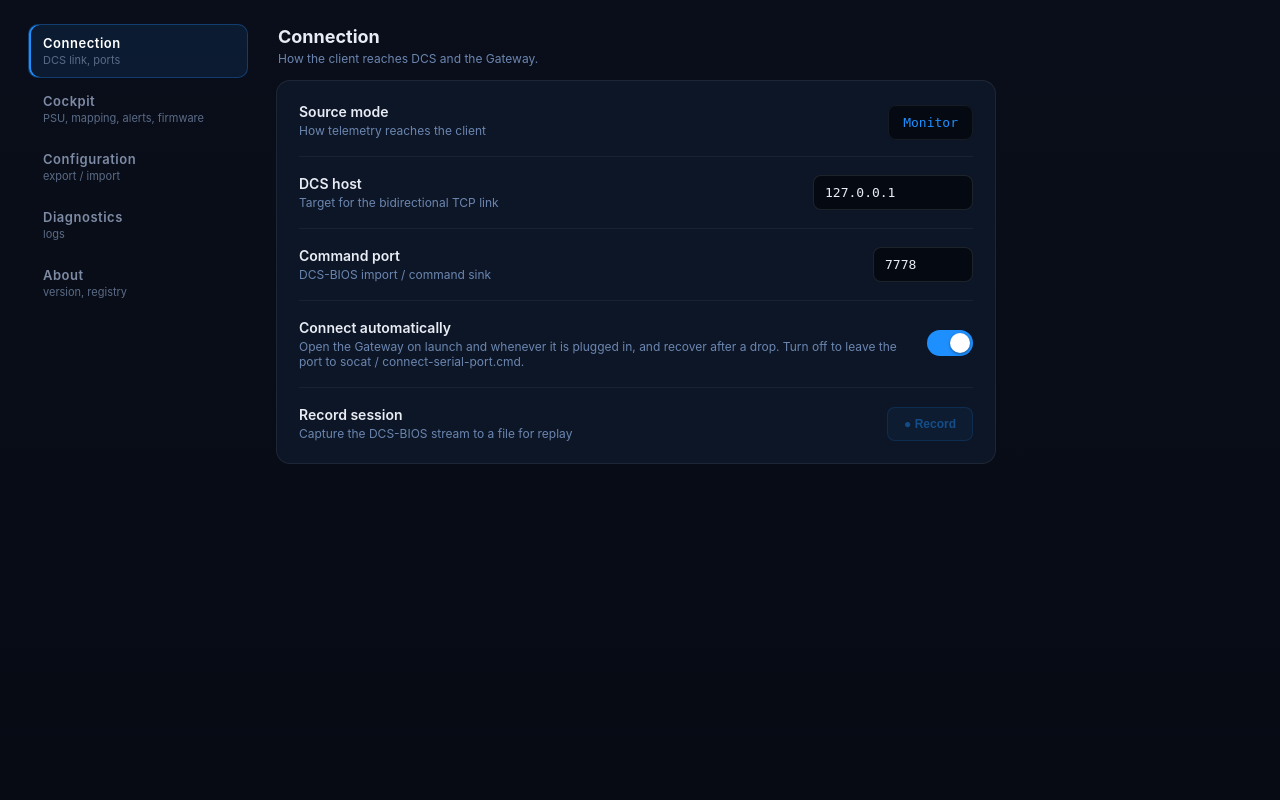
Test: T36 Settings › Configuration › Automatic backups (#136) › restored with the box ticked: the setup before it was backed up first
Click the button "Configuration export / import".
click(138, 167)  # box [28,140,248,194]
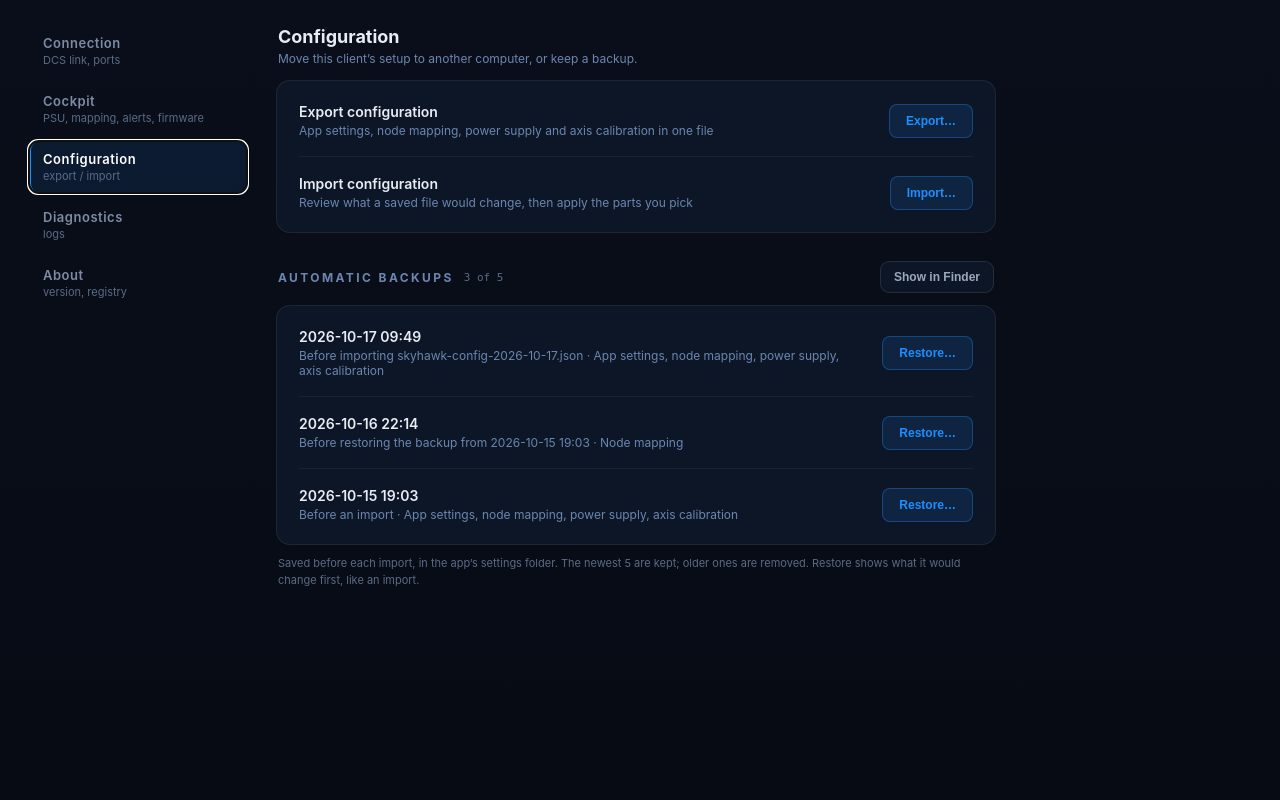
Click the button with aria-label "Restore the backup from 2026-10-17 09:49".
click(928, 353)  # box [882,336,973,370]
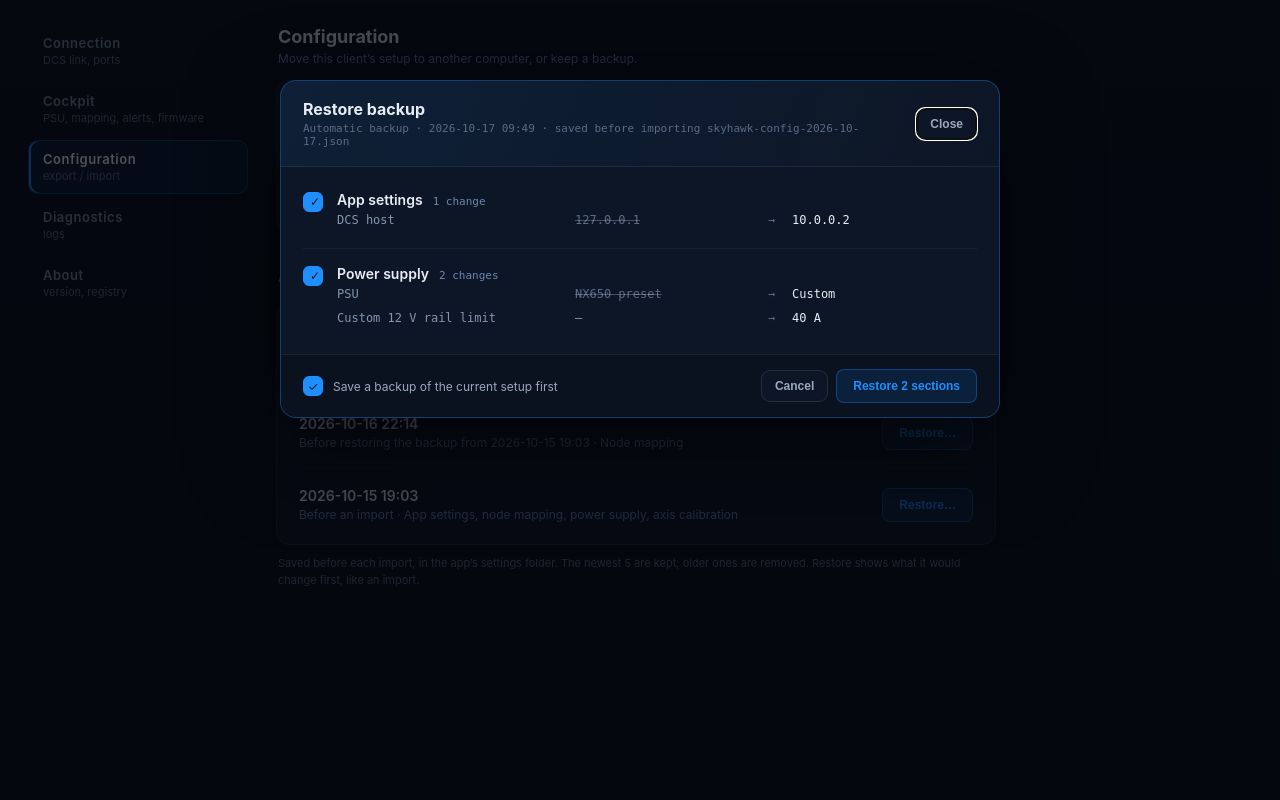
Click the button "Restore 2 sections".
click(907, 386)  # box [836,369,977,403]
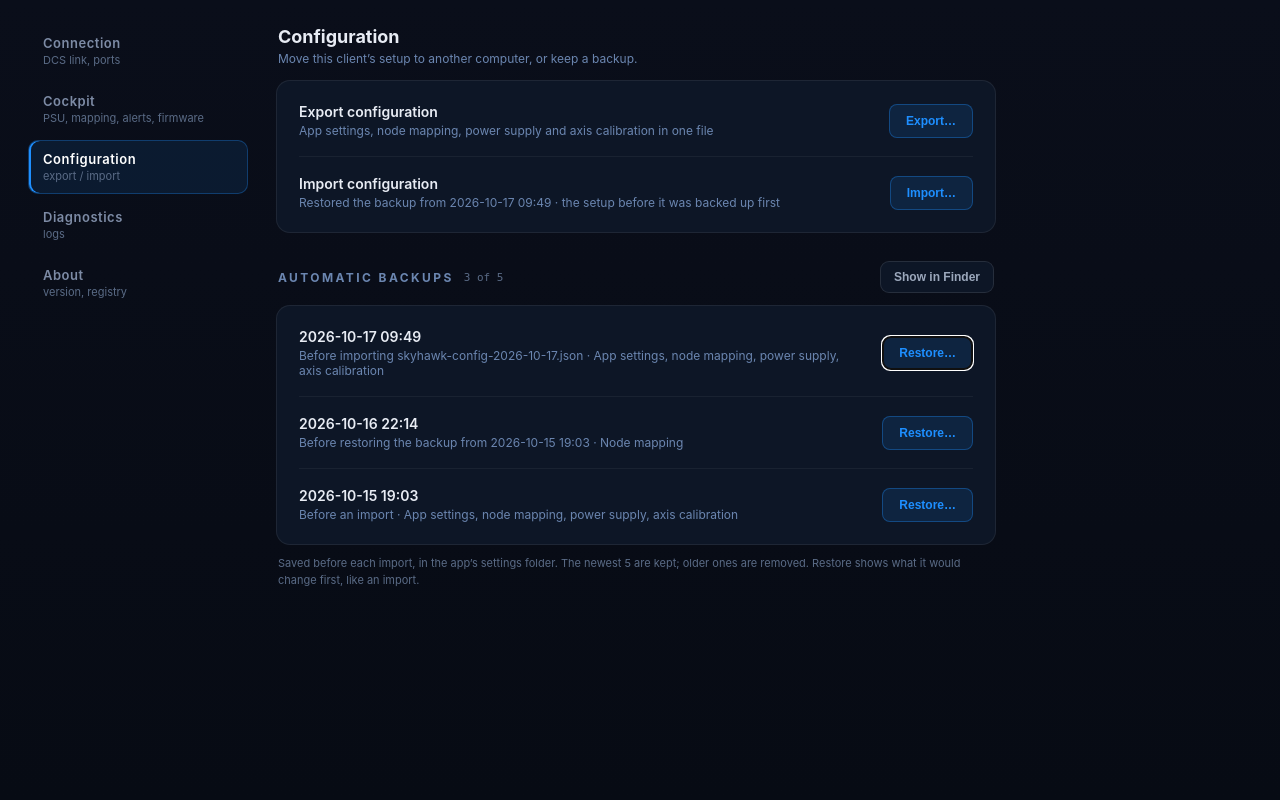
Result: the dialog is gone
Result: the text "Restored the backup from 2026-10-17 09:49 · the setup before it was backed up first" is shown at [299,195,780,210]
